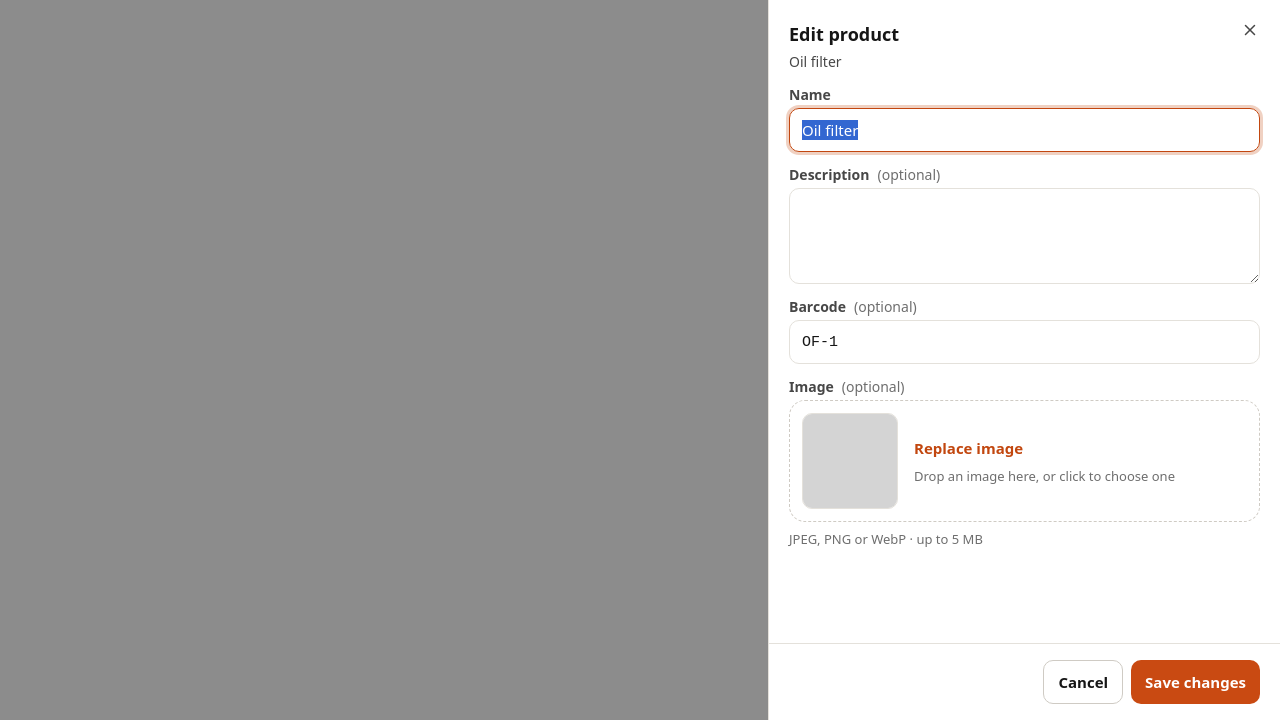
Test case: product form › shows a duplicate barcode from the API on the barcode field
Replace the text in the field labelled "Barcode (optional)" with "WC-100" at point(1024, 342), box top-left (789, 320), bottom-right (1260, 364)
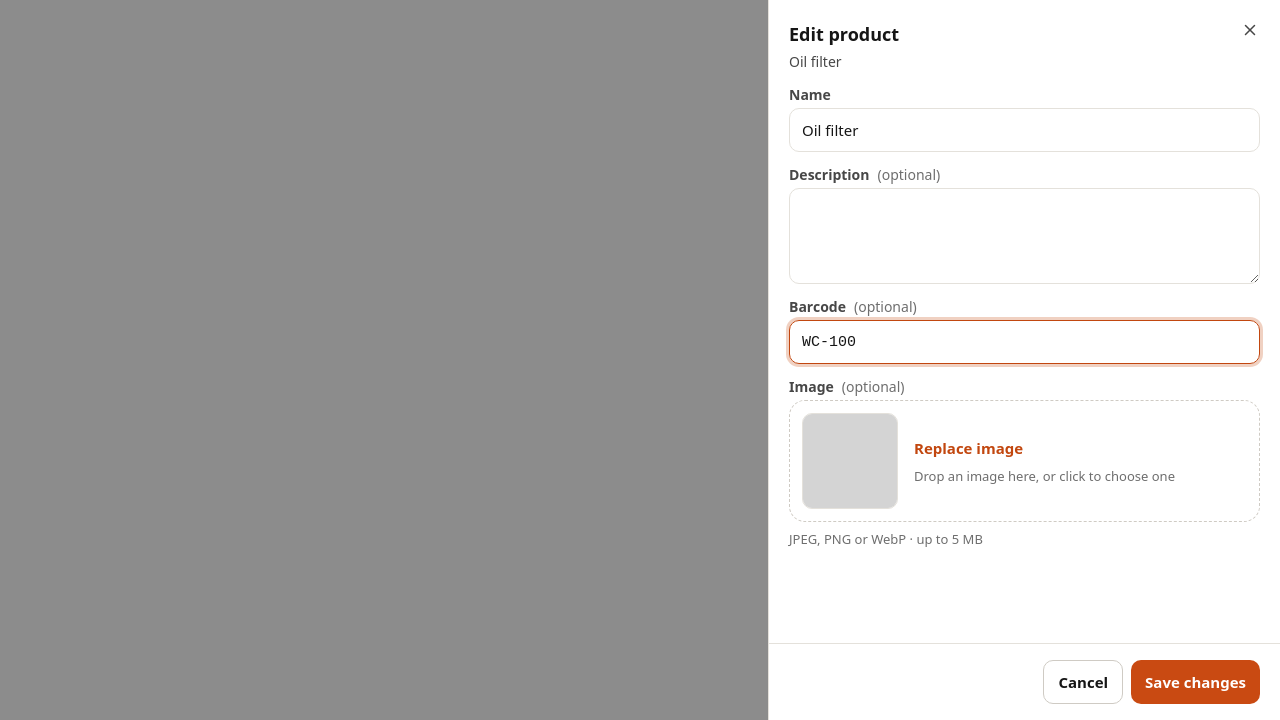
Click the button "Save changes" at point(1196, 682), box top-left (1131, 660), bottom-right (1260, 704)
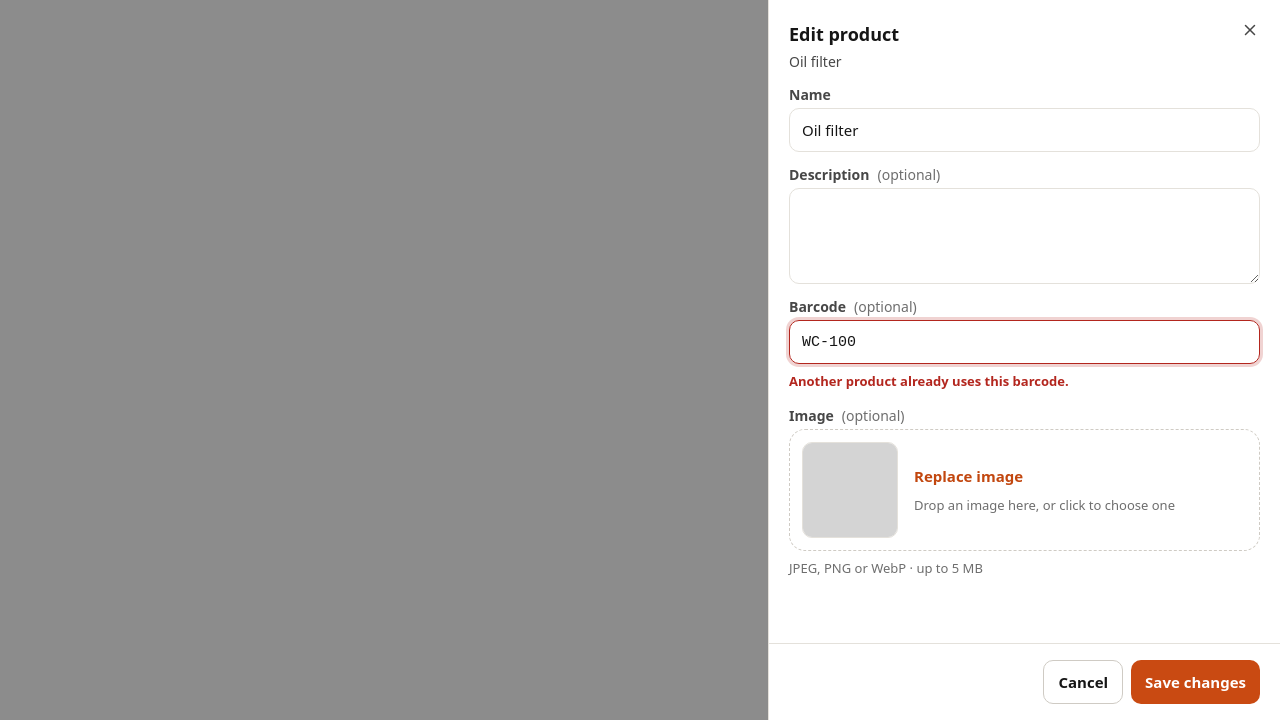
Now the text "Another product already uses this barcode." is shown, box top-left (789, 372), bottom-right (1069, 390)
